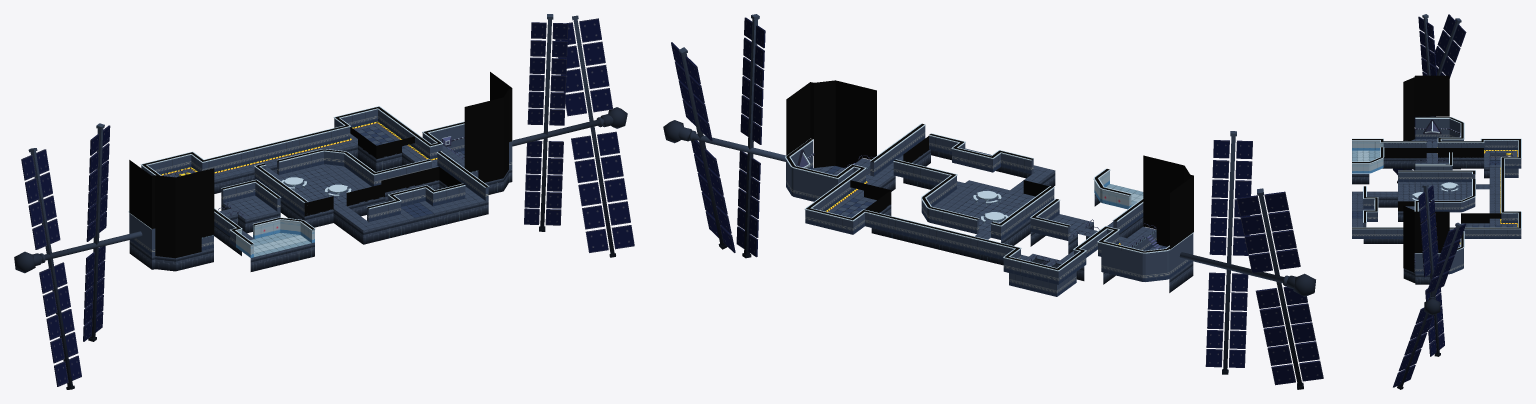
Rendered from LevelEXPORT.fbx.
3 views of the same model, side by side, from view 1: azimuth 30°, elevation 25°; view 2: azimuth 150°, elevation 25°; view 3: azimuth 270°, elevation 25° (orthographic). The views are drawn at different scales.
Parts seen in each view (by area): view 1: WallMask1, Plane.2377, Plane.2378, Plane.2375, Plane.2376, Cylinder, Cylinder.001; view 2: WallMask1, Plane.2375, Plane.2376, Plane.2378, Plane.2377, Cylinder, Cylinder.001; view 3: WallMask1, Plane.2377, Plane.2378, Plane.2375, Plane.2376, Cylinder.001, Circle.012.
Part boxes in pixels (box(x1,y1,x2,y2)): WallMask1: box(129, 72, 512, 258); Plane.2377: box(555, 15, 634, 257); Plane.2378: box(524, 14, 568, 231); Plane.2375: box(21, 148, 81, 389); Plane.2376: box(83, 123, 110, 341); Cylinder: box(14, 231, 142, 273); Cylinder.001: box(512, 107, 627, 146); WallMask1: box(786, 80, 1193, 249); Plane.2375: box(1236, 188, 1323, 389); Plane.2376: box(1205, 131, 1252, 374); Plane.2378: box(736, 14, 765, 258); Plane.2377: box(671, 42, 735, 252); Cylinder: box(1179, 252, 1315, 296); Cylinder.001: box(663, 120, 785, 161); WallMask1: box(1384, 75, 1501, 272); Plane.2377: box(1393, 222, 1466, 389); Plane.2378: box(1418, 183, 1444, 356); Plane.2375: box(1393, 14, 1466, 183); Plane.2376: box(1418, 14, 1436, 116); Cylinder.001: box(1424, 270, 1440, 315); Circle.012: box(1423, 119, 1441, 134).
Size of the model in its own units: 18996 by 7190 by 5919.
